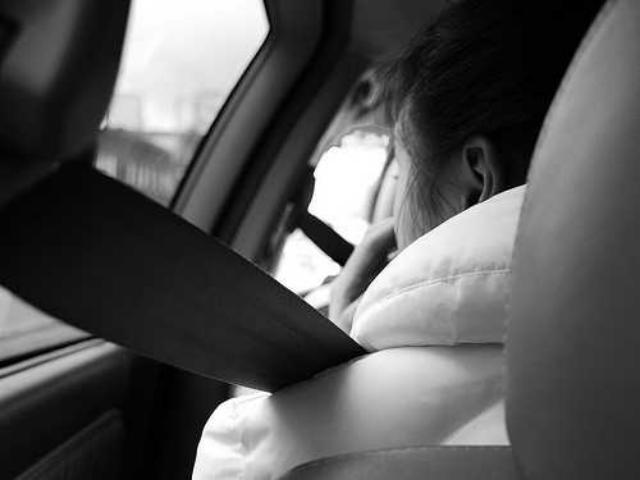Seatbelt: (0, 1, 378, 388)
